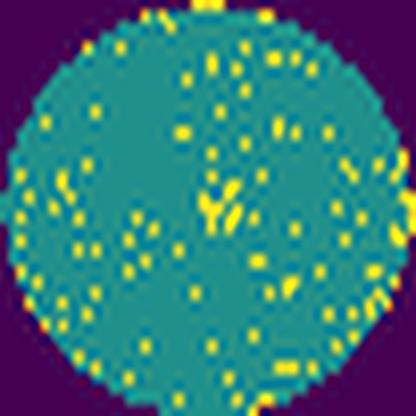Center: (194, 174, 246, 239)
